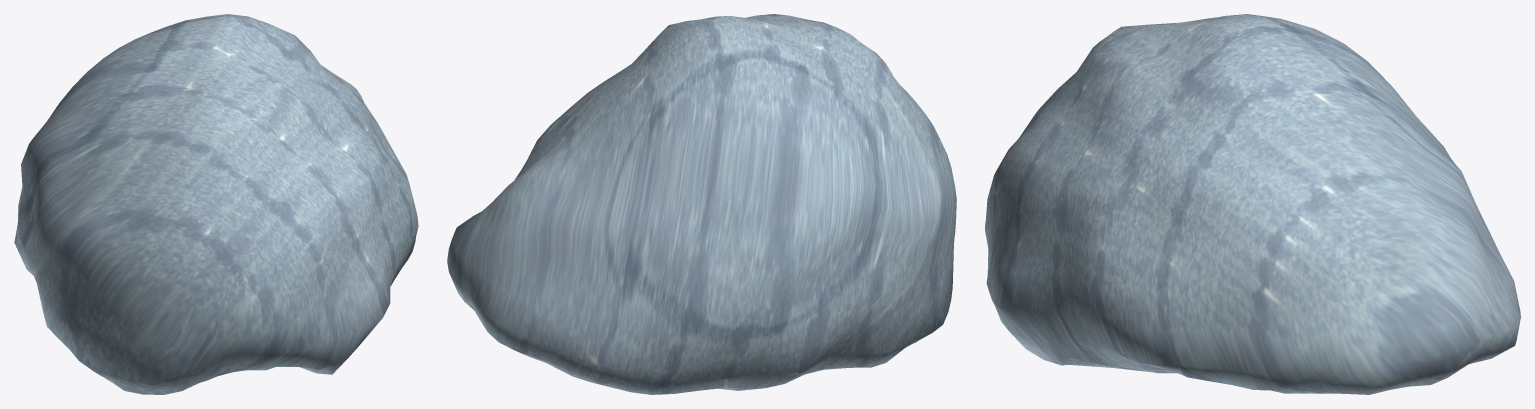
File: rocher1.fbx
3 renders of one model, left to right at view 1: azimuth 30°, elevation 25°; view 2: azimuth 150°, elevation 25°; view 3: azimuth 270°, elevation 25°, orthographic. The views are drawn at different scales.
Visible parts, largest first — view 1: Roundcube.001; view 2: Roundcube.001; view 3: Roundcube.001.
Part boxes in pixels (x1,y1,x2,y2): Roundcube.001: (14,14,418,394); Roundcube.001: (447,14,956,394); Roundcube.001: (985,14,1520,394).
Bounding box in the file's own units: 251 × 189 × 275.
Materials: 1 (1 with a texture image).
